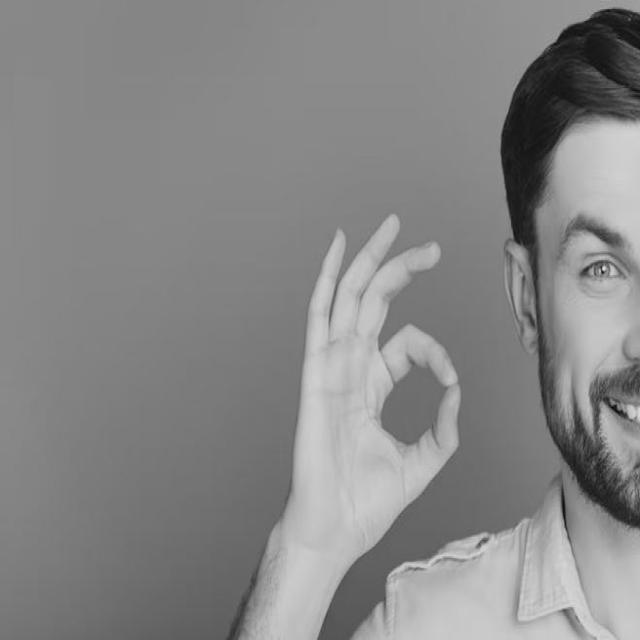perfect: (282, 208, 464, 562)
